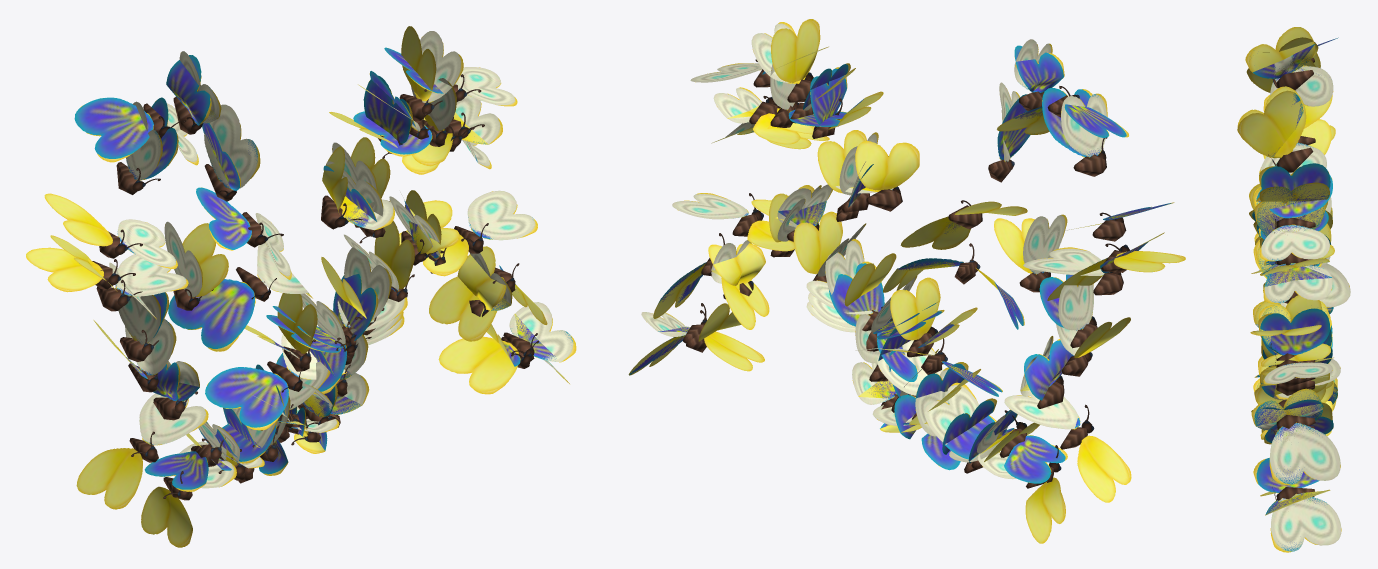
The model's file is butterfly.glb.
3 views of the same model, side by side, from view 1: azimuth 30°, elevation 25°; view 2: azimuth 150°, elevation 25°; view 3: azimuth 270°, elevation 25° (orthographic). The views are drawn at different scales.
Visible parts, largest first — view 1: wings_1 (×16), wings_5 (×19), wings_6 (×15); view 2: wings_1 (×20), wings_6 (×16), wings_5 (×14); view 3: wings_5 (×10), wings_1 (×16), wings_6 (×9), body (×7).
Boxes of the visible parts, <box> form: wings_1 (×16): <box>26,26,567,545</box>; wings_5 (×19): <box>115,31,573,445</box>; wings_6 (×15): <box>74,55,572,489</box>; wings_1 (×20): <box>628,20,1183,543</box>; wings_6 (×16): <box>810,45,1126,483</box>; wings_5 (×14): <box>672,23,1106,444</box>; wings_5 (×10): <box>1260,54,1350,551</box>; wings_1 (×16): <box>1240,27,1334,514</box>; wings_6 (×9): <box>1253,44,1333,514</box>; body (×7): <box>1276,70,1315,500</box>.
Size of the model in its own units: 3.81 by 3.47 by 0.9947.
5 materials, 5 textured.
